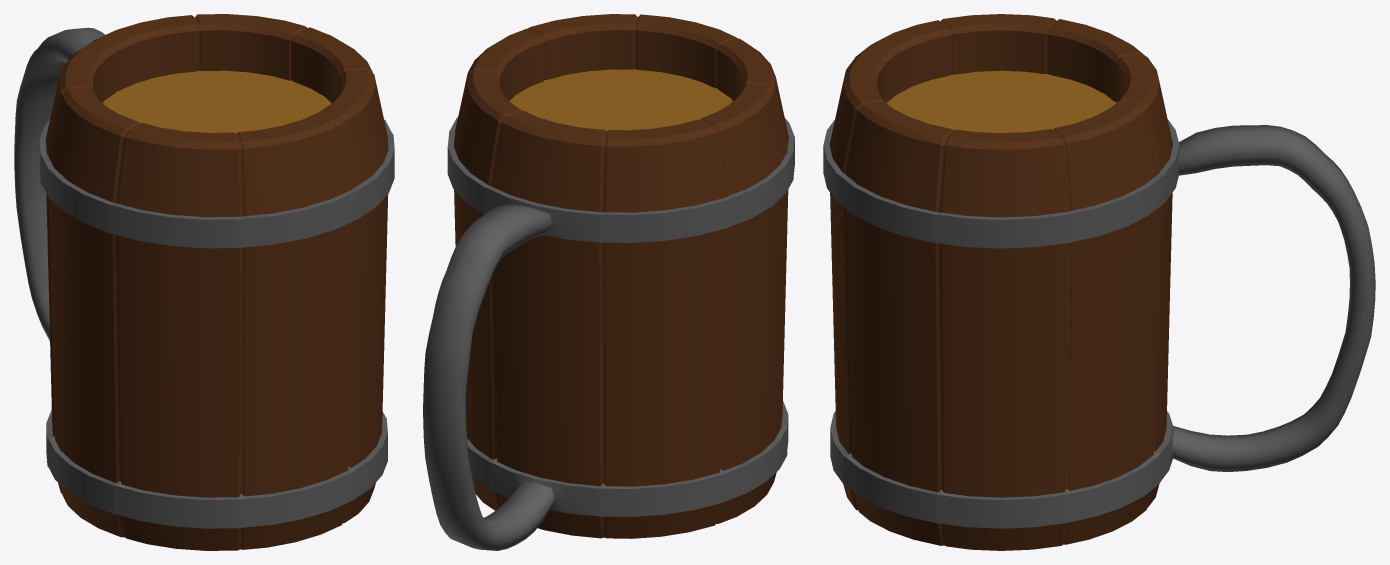
Rendered from Tankard.fbx.
The picture shows the model from 3 angles, left to right: view 1: azimuth 30°, elevation 25°; view 2: azimuth 150°, elevation 25°; view 3: azimuth 270°, elevation 25°; orthographic projection. The views are drawn at different scales.
Visible parts, largest first — view 1: Tankard, Tankard_Liquid; view 2: Tankard, Tankard_Liquid; view 3: Tankard, Tankard_Liquid.
Boxes of the visible parts, bbox=[...] form: Tankard: bbox=[14, 14, 394, 550]; Tankard_Liquid: bbox=[103, 70, 331, 133]; Tankard: bbox=[423, 14, 794, 550]; Tankard_Liquid: bbox=[509, 69, 732, 130]; Tankard: bbox=[823, 14, 1375, 550]; Tankard_Liquid: bbox=[887, 70, 1116, 132].
Size of the model in its own units: 226 by 285 by 351.
